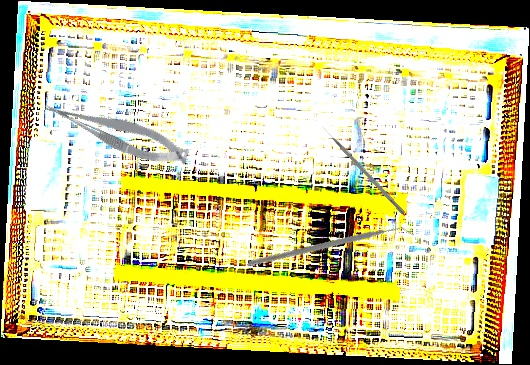Chopper: (246, 165, 415, 334)
Hook Surgical: (321, 124, 406, 215)
Micro Scissor: (41, 83, 193, 180)
